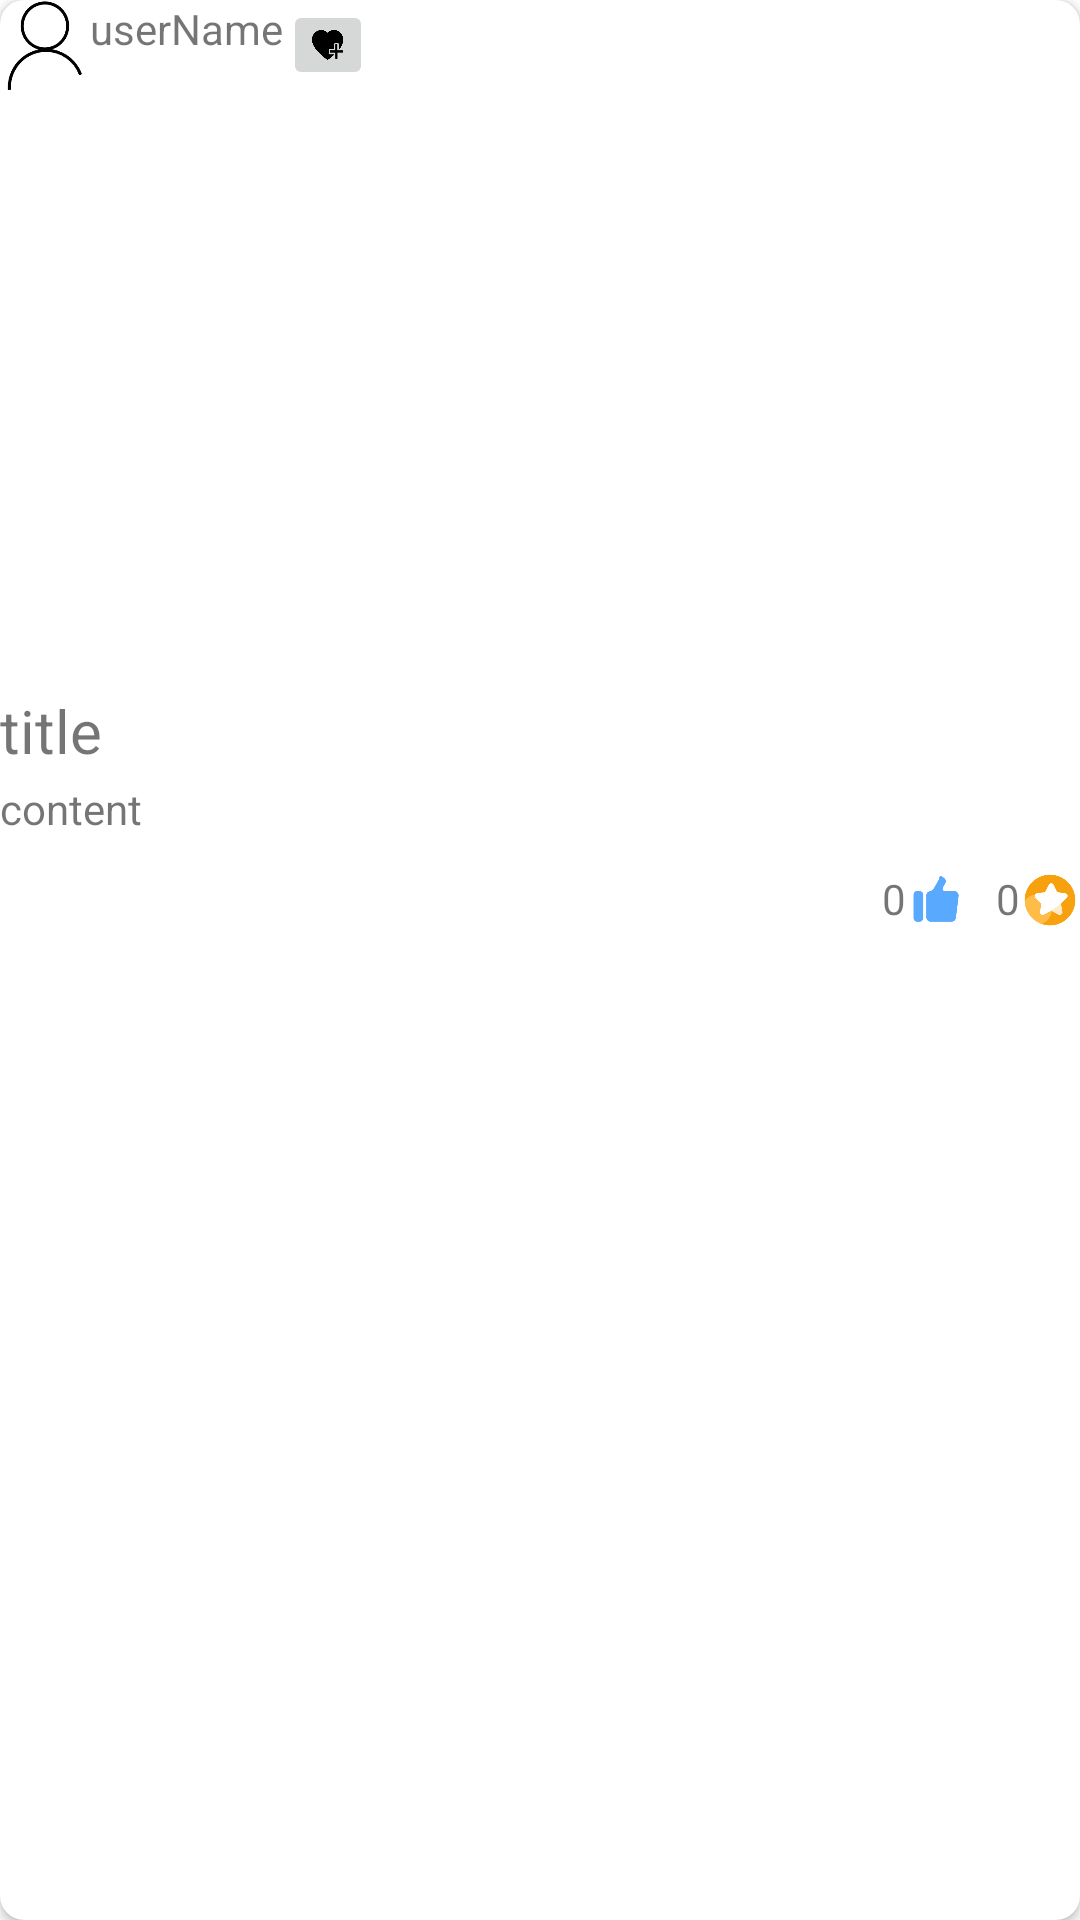

Where icons sit on this 1080w x 1920h app screen, as (x1, y1, x2, y2):
collect: (1024, 874, 1076, 926)
iconhead: (0, 0, 82, 90)
zan: (913, 876, 959, 922)
